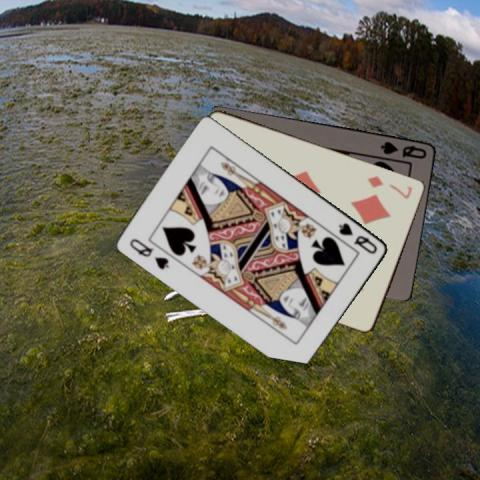7d: (365, 172, 414, 200)
Qs: (126, 234, 170, 270), (336, 220, 379, 256), (378, 138, 429, 160)
